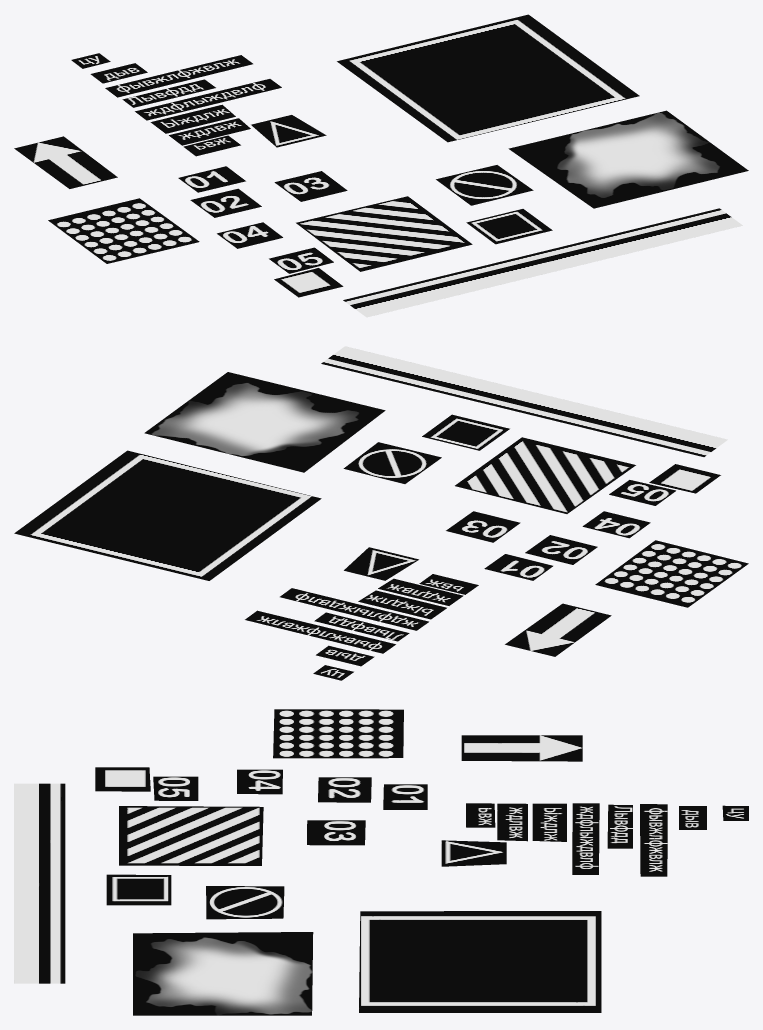
The model's file is M_Decals.FBX.
3 renders of one model, top to bottom at view 1: azimuth 30°, elevation 25°; view 2: azimuth 150°, elevation 25°; view 3: azimuth 270°, elevation 25°, orthographic. The views are drawn at different scales.
Parts seen in each view (by area): view 1: Dec_Decal_A_00, Dec_Decal_A_01, Dec_Decal_A_04, Dec_Decal_A_06, Dec_Decal_A_12, Dec_Decal_A_22, Dec_Decal_A_02, Dec_Decal_A_16, Dec_Decal_A_19, Dec_Decal_A_03, Dec_Decal_A_20, Dec_Decal_A_09 (+10 smaller); view 2: Dec_Decal_A_00, Dec_Decal_A_01, Dec_Decal_A_04, Dec_Decal_A_06, Dec_Decal_A_12, Dec_Decal_A_22, Dec_Decal_A_02, Dec_Decal_A_16, Dec_Decal_A_19, Dec_Decal_A_03, Dec_Decal_A_20, Dec_Decal_A_09 (+10 smaller); view 3: Dec_Decal_A_00, Dec_Decal_A_01, Dec_Decal_A_04, Dec_Decal_A_06, Dec_Decal_A_12, Dec_Decal_A_22, Dec_Decal_A_02, Dec_Decal_A_03, Dec_Decal_A_16, Dec_Decal_A_19, Dec_Decal_A_20, Dec_Decal_A_09 (+10 smaller).
Boxes of the visible parts, left/top/right/bottom form: Dec_Decal_A_00: left=337, top=14, right=639, bottom=142; Dec_Decal_A_01: left=508, top=110, right=748, bottom=208; Dec_Decal_A_04: left=343, top=208, right=742, bottom=317; Dec_Decal_A_06: left=296, top=196, right=472, bottom=271; Dec_Decal_A_12: left=48, top=198, right=199, bottom=263; Dec_Decal_A_22: left=14, top=136, right=117, bottom=188; Dec_Decal_A_02: left=436, top=165, right=533, bottom=205; Dec_Decal_A_16: left=105, top=55, right=252, bottom=97; Dec_Decal_A_19: left=135, top=79, right=281, bottom=120; Dec_Decal_A_03: left=466, top=209, right=552, bottom=244; Dec_Decal_A_20: left=251, top=115, right=326, bottom=147; Dec_Decal_A_09: left=274, top=171, right=347, bottom=201; Dec_Decal_A_00: left=14, top=450, right=321, bottom=580; Dec_Decal_A_01: left=144, top=372, right=385, bottom=472; Dec_Decal_A_04: left=321, top=346, right=727, bottom=456; Dec_Decal_A_06: left=455, top=437, right=635, bottom=513; Dec_Decal_A_12: left=595, top=540, right=748, bottom=607; Dec_Decal_A_22: left=505, top=603, right=611, bottom=656; Dec_Decal_A_02: left=343, top=442, right=441, bottom=483; Dec_Decal_A_16: left=245, top=610, right=395, bottom=653; Dec_Decal_A_19: left=280, top=588, right=428, bottom=630; Dec_Decal_A_03: left=422, top=414, right=509, bottom=450; Dec_Decal_A_20: left=344, top=547, right=418, bottom=580; Dec_Decal_A_09: left=446, top=511, right=520, bottom=542; Dec_Decal_A_00: left=359, top=911, right=601, bottom=1012; Dec_Decal_A_01: left=133, top=932, right=313, bottom=1015; Dec_Decal_A_04: left=14, top=783, right=65, bottom=983; Dec_Decal_A_06: left=119, top=806, right=263, bottom=865; Dec_Decal_A_12: left=273, top=709, right=403, bottom=758; Dec_Decal_A_22: left=461, top=735, right=582, bottom=761; Dec_Decal_A_02: left=206, top=886, right=284, bottom=919; Dec_Decal_A_03: left=106, top=874, right=171, bottom=905; Dec_Decal_A_16: left=640, top=804, right=667, bottom=876; Dec_Decal_A_19: left=572, top=803, right=599, bottom=874; Dec_Decal_A_20: left=441, top=840, right=506, bottom=866; Dec_Decal_A_09: left=307, top=820, right=365, bottom=845.
Size of the model in its own units: 306 by 311 by 0.
Materials: 1 (1 with a texture image).
